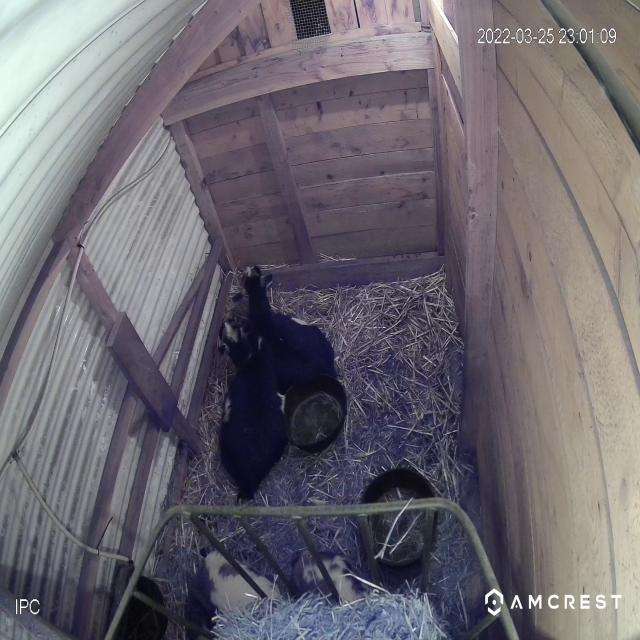goat: (168, 551, 434, 640), (236, 247, 354, 415), (208, 311, 299, 508)
